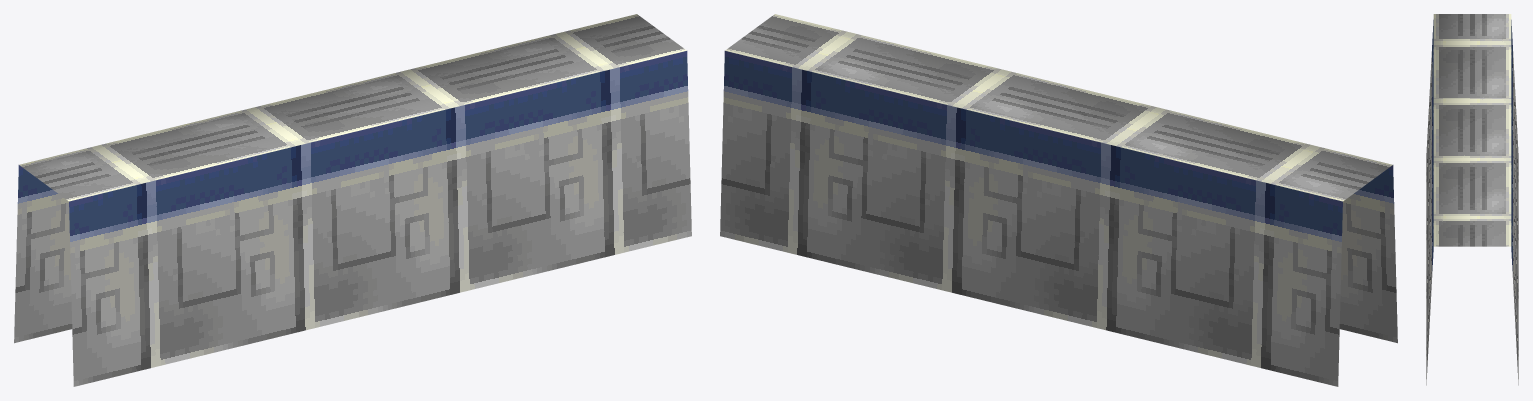
The model's file is MobileWallWallX.glb.
The picture shows the model from 3 angles, left to right: view 1: azimuth 30°, elevation 25°; view 2: azimuth 150°, elevation 25°; view 3: azimuth 270°, elevation 25°; orthographic projection. The views are drawn at different scales.
Visible parts, largest first — view 1: MobileWallWallX; view 2: MobileWallWallX; view 3: MobileWallWallX.
Part boxes in pixels (left/top/right/bottom): MobileWallWallX: left=14, top=14, right=691, bottom=386; MobileWallWallX: left=720, top=14, right=1397, bottom=386; MobileWallWallX: left=1426, top=14, right=1518, bottom=385.
Bounding box in the file's own units: 32 × 9 × 5.36.
Materials: 2 (2 with a texture image).
